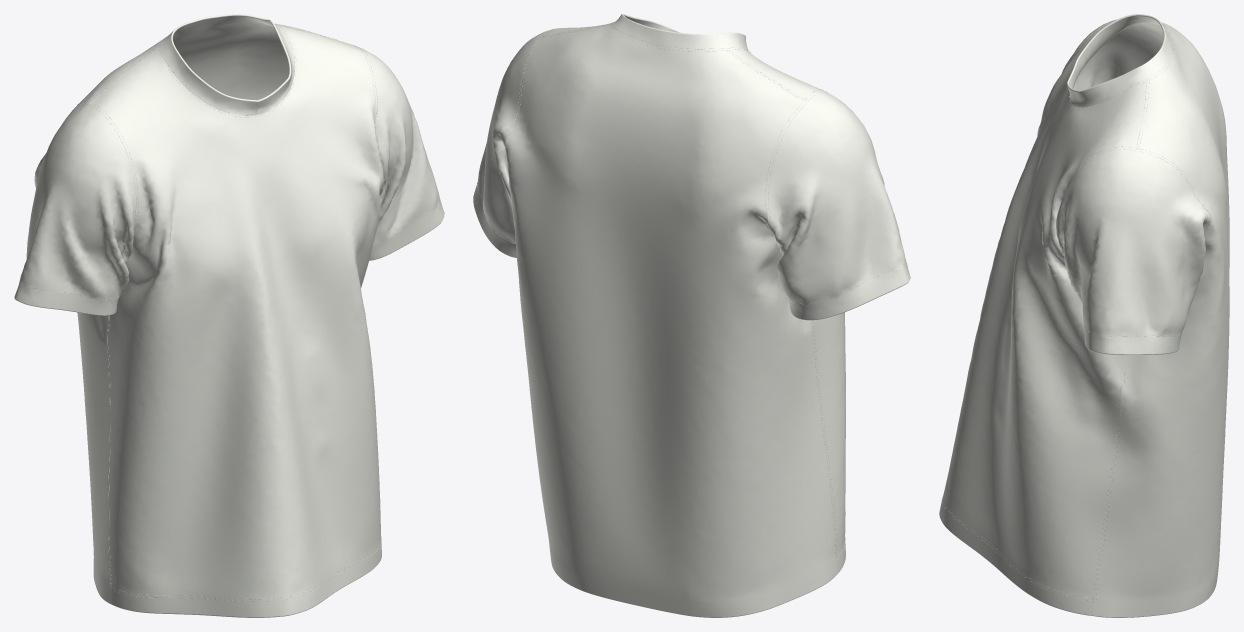
Rendered from base-garment-preview.glb.
3 renders of one model, left to right at view 1: azimuth 30°, elevation 25°; view 2: azimuth 150°, elevation 25°; view 3: azimuth 270°, elevation 25°, orthographic. The views are drawn at different scales.
Parts seen in each view (by area): view 1: Short Sleeve T-Shirt; view 2: Short Sleeve T-Shirt; view 3: Short Sleeve T-Shirt.
Part boxes in pixels (<box>): Short Sleeve T-Shirt: <box>14,14,444,617</box>; Short Sleeve T-Shirt: <box>473,14,910,617</box>; Short Sleeve T-Shirt: <box>939,14,1229,617</box>.
Bounding box in the file's own units: 0.5759 × 0.7075 × 0.3504.
2 materials, 2 textured.
